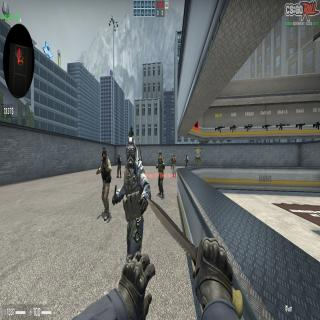CT-Body: (113, 135, 151, 319), (96, 148, 112, 222), (156, 150, 165, 199), (116, 153, 122, 179), (185, 154, 189, 168), (171, 154, 173, 170)
CT-Head: (125, 135, 138, 173), (101, 148, 107, 162), (158, 150, 162, 160), (118, 153, 120, 158), (186, 154, 187, 158), (172, 154, 172, 157)
T-Body: (172, 155, 176, 177)
T-Head: (173, 154, 175, 158)
